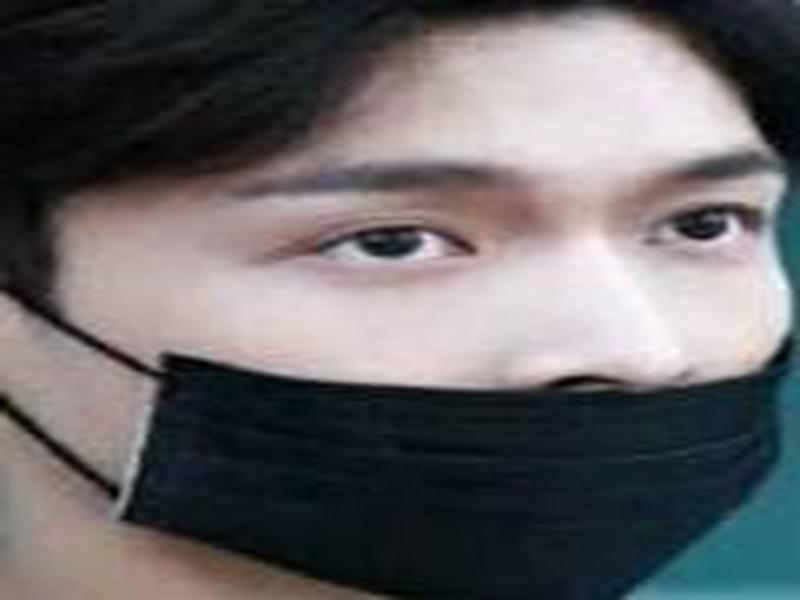with_mask: (1, 2, 790, 593)
